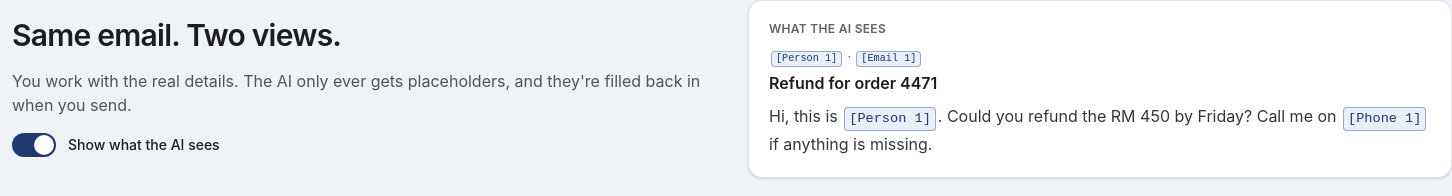
Test case: the landing page › the switch flips one email between the AI's view and the reader's
Check: the text "012-345 6789" is not shown
Step 1. Click the switch → (34,145), box [12,133,56,157]
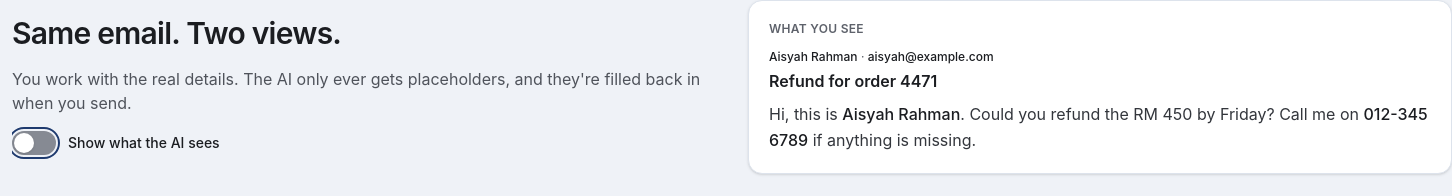
Check: the text "012-345 6789" is shown, box [769,104,1428,150]
